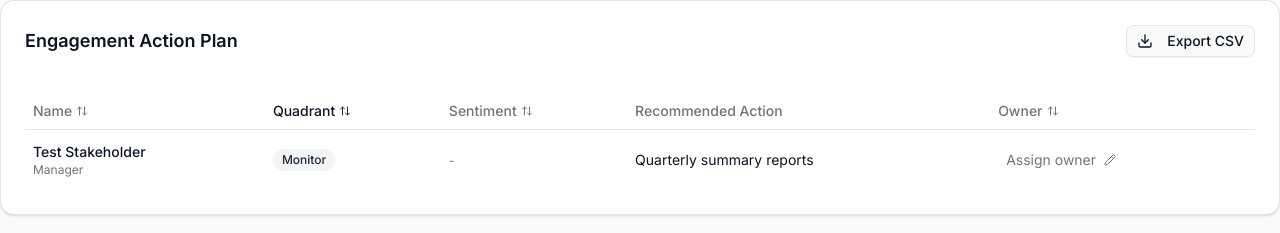
Test: EngagementActionTable › owner editing › opens editor when clicking owner cell
What coordinates should you click on to do the following:
click the button "Assign owner"
I would click on:
 (1061, 160)
Its box is [998,146,1124,174].
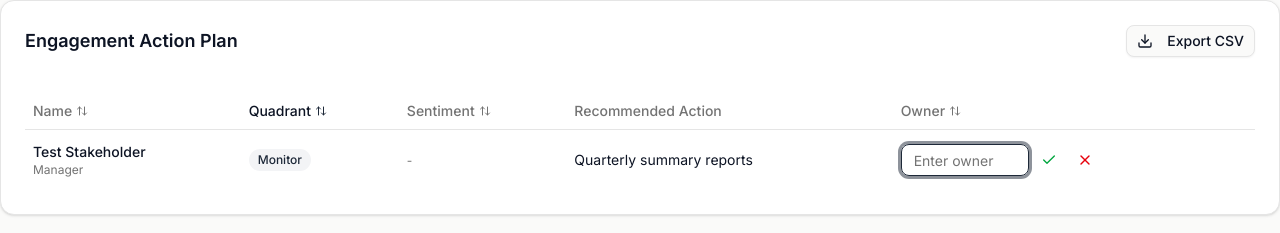
Result: the field with placeholder "Enter owner" is shown at [901,144,1029,176]
